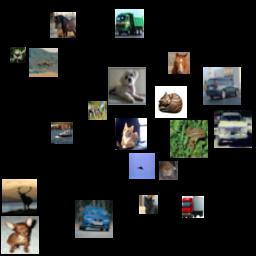airplane: (29, 48, 58, 77), (129, 153, 155, 179)
automobile: (75, 200, 113, 238), (214, 110, 252, 148), (203, 67, 241, 105)
cat: (115, 118, 147, 150), (155, 86, 187, 118), (159, 161, 178, 180), (139, 195, 158, 214)
deer: (2, 179, 37, 214), (88, 101, 107, 120)
dog: (108, 67, 146, 105), (1, 216, 39, 254)
frog: (170, 120, 208, 158), (10, 47, 26, 63)
ship: (51, 122, 73, 144)
truck: (115, 9, 144, 38), (182, 196, 204, 218)
